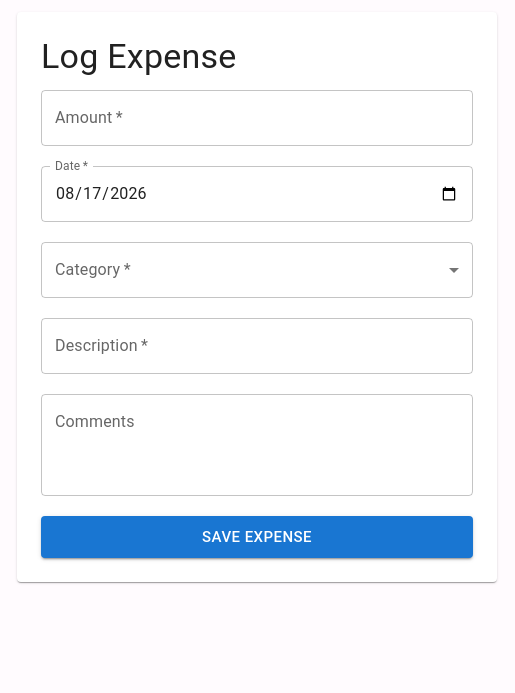
it: ExpenseForm › should show validation errors when submitting empty form
Clear the date field labelled "Date" at {"x": 257, "y": 194}, box [41,166,473,222]
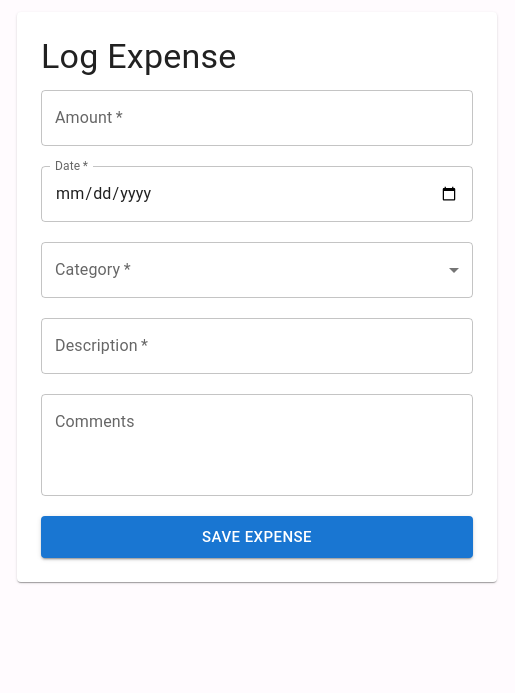
Click the button with aria-label "Submit expense".
click(257, 537)  # box [41,516,473,558]
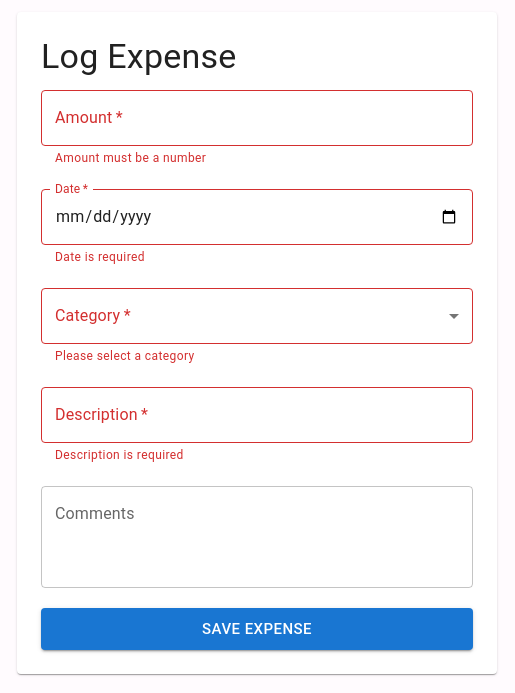
Expected: the text "Description is required" is shown, [55,448,184,462]
